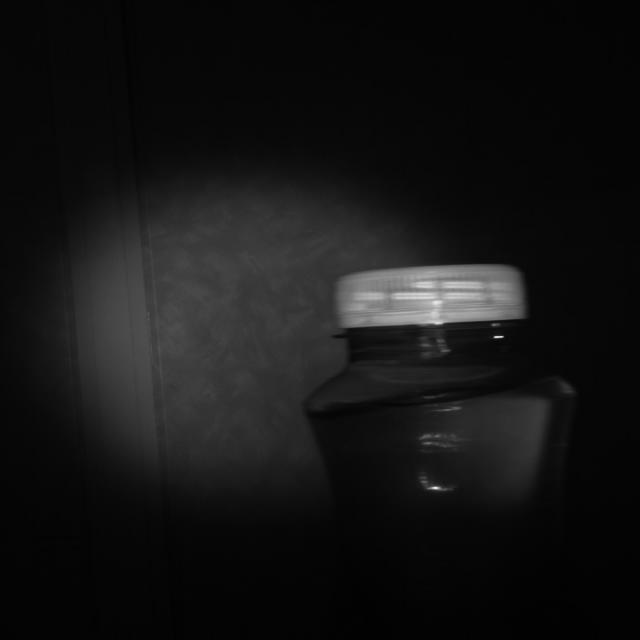Good: (338, 265, 523, 326)
